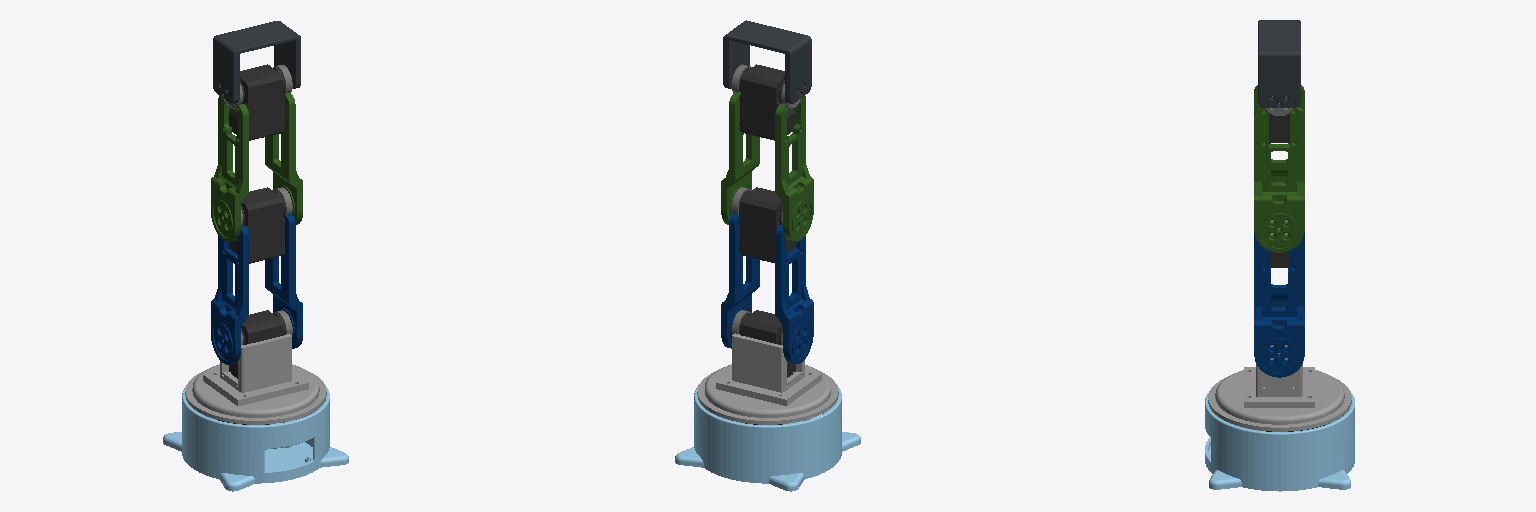
robot.urdf — onshape_export:
<?xml version="1.0" ?>
<!-- Generated using onshape-to-robot -->
<!-- Onshape https://cad.onshape.com/documents/b026964aa62daf9c1ecc4815/w/b181745cba52742b3ffb21e6/e/5ac1da73cba8f2619ef0b056 -->
<robot name="onshape_export">
  <!-- Link base_of_shoulder -->
  <link name="base_of_shoulder">
    <inertial>
      <origin xyz="0 0 0" rpy="0 0 0"/>
      <mass value="0"/>
      <inertia ixx="0" ixy="0" ixz="0" iyy="0" iyz="0" izz="0"/>
    </inertial>
    <!-- Part j2_servo -->
    <visual>
      <origin xyz="-0.0127266 0.021403 0.0237284" rpy="-0 -0 -0"/>
      <geometry>
        <mesh filename="package://assets/j2_servo.stl"/>
      </geometry>
      <material name="j2_servo_material">
        <color rgba="0.247059 0.247059 0.247059 1"/>
      </material>
    </visual>
    <collision>
      <origin xyz="-0.0127266 0.021403 0.0237284" rpy="-0 -0 -0"/>
      <geometry>
        <mesh filename="package://assets/j2_servo.stl"/>
      </geometry>
    </collision>
    <!-- Part base_of_shoulder -->
    <visual>
      <origin xyz="-0.0133535 0.025576 0.00282843" rpy="0 -0 -1.5708"/>
      <geometry>
        <mesh filename="package://assets/base_of_shoulder.stl"/>
      </geometry>
      <material name="base_of_shoulder_material">
        <color rgba="0.647059 0.647059 0.647059 1"/>
      </material>
    </visual>
    <collision>
      <origin xyz="-0.0133535 0.025576 0.00282843" rpy="0 -0 -1.5708"/>
      <geometry>
        <mesh filename="package://assets/base_of_shoulder.stl"/>
      </geometry>
    </collision>
    <!-- Part socker_j1 -->
    <visual>
      <origin xyz="-0.0175265 0.021403 0.00282843" rpy="-0 -0 -0"/>
      <geometry>
        <mesh filename="package://assets/socker_j1.stl"/>
      </geometry>
      <material name="socker_j1_material">
        <color rgba="0.647059 0.647059 0.647059 1"/>
      </material>
    </visual>
    <collision>
      <origin xyz="-0.0175265 0.021403 0.00282843" rpy="-0 -0 -0"/>
      <geometry>
        <mesh filename="package://assets/socker_j1.stl"/>
      </geometry>
    </collision>
  </link>
  <!-- Link base_servo_board -->
  <link name="base_servo_board">
    <inertial>
      <origin xyz="0 0 0" rpy="0 0 0"/>
      <mass value="0"/>
      <inertia ixx="0" ixy="0" ixz="0" iyy="0" iyz="0" izz="0"/>
    </inertial>
    <!-- Part base_servo_board -->
    <visual>
      <origin xyz="-0.0038 -0 -0.0398" rpy="0 0 -0"/>
      <geometry>
        <mesh filename="package://assets/base_servo_board.stl"/>
      </geometry>
      <material name="base_servo_board_material">
        <color rgba="0.615686 0.811765 0.929412 1"/>
      </material>
    </visual>
    <collision>
      <origin xyz="-0.0038 -0 -0.0398" rpy="0 0 -0"/>
      <geometry>
        <mesh filename="package://assets/base_servo_board.stl"/>
      </geometry>
    </collision>
    <!-- Part servo_motor_sts3215_v10 -->
    <visual>
      <origin xyz="-0.0038 0 -0.0398" rpy="-0 0 -0"/>
      <geometry>
        <mesh filename="package://assets/servo_motor_sts3215_v10.stl"/>
      </geometry>
      <material name="servo_motor_sts3215_v10_material">
        <color rgba="0.247059 0.247059 0.247059 1"/>
      </material>
    </visual>
    <collision>
      <origin xyz="-0.0038 0 -0.0398" rpy="-0 0 -0"/>
      <geometry>
        <mesh filename="package://assets/servo_motor_sts3215_v10.stl"/>
      </geometry>
    </collision>
  </link>
  <!-- Joint from base_of_shoulder to base_servo_board -->
  <joint name="Servor_1_to_waist" type="revolute">
    <origin xyz="-0.0133535 0.021776 0.0426284" rpy="0 -0 -1.5708"/>
    <parent link="base_of_shoulder"/>
    <child link="base_servo_board"/>
    <axis xyz="0 0 1"/>
    <limit effort="10" velocity="10" lower="-6.28319" upper="6.28319"/>
  </joint>
  <!-- Link shoulder_left -->
  <link name="shoulder_left">
    <inertial>
      <origin xyz="0 0 0" rpy="0 0 0"/>
      <mass value="0"/>
      <inertia ixx="0" ixy="0" ixz="0" iyy="0" iyz="0" izz="0"/>
    </inertial>
    <!-- Part shoulder_left -->
    <visual>
      <origin xyz="-0 -0.0679 0.0176" rpy="-1.5708 -1.5708 0"/>
      <geometry>
        <mesh filename="package://assets/shoulder_left.stl"/>
      </geometry>
      <material name="shoulder_left_material">
        <color rgba="0.0627451 0.266667 0.490196 1"/>
      </material>
    </visual>
    <collision>
      <origin xyz="-0 -0.0679 0.0176" rpy="-1.5708 -1.5708 0"/>
      <geometry>
        <mesh filename="package://assets/shoulder_left.stl"/>
      </geometry>
    </collision>
    <!-- Part left_cover -->
    <visual>
      <origin xyz="-0 -0.0679 0.0176" rpy="-1.5708 -1.5708 0"/>
      <geometry>
        <mesh filename="package://assets/left_cover.stl"/>
      </geometry>
      <material name="left_cover_material">
        <color rgba="0.498039 0.498039 0.498039 1"/>
      </material>
    </visual>
    <collision>
      <origin xyz="-0 -0.0679 0.0176" rpy="-1.5708 -1.5708 0"/>
      <geometry>
        <mesh filename="package://assets/left_cover.stl"/>
      </geometry>
    </collision>
    <!-- Part j3_servo -->
    <visual>
      <origin xyz="0 -0.0679 0.0175809" rpy="-1.5708 -1.5708 0"/>
      <geometry>
        <mesh filename="package://assets/j3_servo.stl"/>
      </geometry>
      <material name="j3_servo_material">
        <color rgba="0.247059 0.247059 0.247059 1"/>
      </material>
    </visual>
    <collision>
      <origin xyz="0 -0.0679 0.0175809" rpy="-1.5708 -1.5708 0"/>
      <geometry>
        <mesh filename="package://assets/j3_servo.stl"/>
      </geometry>
    </collision>
    <!-- Part right_cover -->
    <visual>
      <origin xyz="0 -0.0679 0.0175617" rpy="-1.5708 -1.5708 0"/>
      <geometry>
        <mesh filename="package://assets/right_cover.stl"/>
      </geometry>
      <material name="right_cover_material">
        <color rgba="0.498039 0.498039 0.498039 1"/>
      </material>
    </visual>
    <collision>
      <origin xyz="0 -0.0679 0.0175617" rpy="-1.5708 -1.5708 0"/>
      <geometry>
        <mesh filename="package://assets/right_cover.stl"/>
      </geometry>
    </collision>
    <!-- Part shoulder_right -->
    <visual>
      <origin xyz="0 -0.0679 0.0175617" rpy="-1.5708 -1.5708 0"/>
      <geometry>
        <mesh filename="package://assets/shoulder_right.stl"/>
      </geometry>
      <material name="shoulder_right_material">
        <color rgba="0.0627451 0.266667 0.490196 1"/>
      </material>
    </visual>
    <collision>
      <origin xyz="0 -0.0679 0.0175617" rpy="-1.5708 -1.5708 0"/>
      <geometry>
        <mesh filename="package://assets/shoulder_right.stl"/>
      </geometry>
    </collision>
  </link>
  <!-- Link left_cover -->
  <link name="left_cover">
    <inertial>
      <origin xyz="0 0 0" rpy="0 0 0"/>
      <mass value="0"/>
      <inertia ixx="0" ixy="0" ixz="0" iyy="0" iyz="0" izz="0"/>
    </inertial>
    <!-- Part right_cover_2 -->
    <visual>
      <origin xyz="-0 -0.0679 0.0175617" rpy="-1.5708 -1.5708 0"/>
      <geometry>
        <mesh filename="package://assets/right_cover.stl"/>
      </geometry>
      <material name="right_cover_2_material">
        <color rgba="0.498039 0.498039 0.498039 1"/>
      </material>
    </visual>
    <collision>
      <origin xyz="-0 -0.0679 0.0175617" rpy="-1.5708 -1.5708 0"/>
      <geometry>
        <mesh filename="package://assets/right_cover.stl"/>
      </geometry>
    </collision>
    <!-- Part elbow_left -->
    <visual>
      <origin xyz="0 -0.0539 0.0176" rpy="-1.5708 -1.5708 0"/>
      <geometry>
        <mesh filename="package://assets/elbow_left.stl"/>
      </geometry>
      <material name="elbow_left_material">
        <color rgba="0.25098 0.419608 0.172549 1"/>
      </material>
    </visual>
    <collision>
      <origin xyz="0 -0.0539 0.0176" rpy="-1.5708 -1.5708 0"/>
      <geometry>
        <mesh filename="package://assets/elbow_left.stl"/>
      </geometry>
    </collision>
    <!-- Part elbow_right -->
    <visual>
      <origin xyz="-0 -0.0539 0.0175617" rpy="-1.5708 -1.5708 0"/>
      <geometry>
        <mesh filename="package://assets/elbow_right.stl"/>
      </geometry>
      <material name="elbow_right_material">
        <color rgba="0.25098 0.419608 0.172549 1"/>
      </material>
    </visual>
    <collision>
      <origin xyz="-0 -0.0539 0.0175617" rpy="-1.5708 -1.5708 0"/>
      <geometry>
        <mesh filename="package://assets/elbow_right.stl"/>
      </geometry>
    </collision>
    <!-- Part left_cover_2 -->
    <visual>
      <origin xyz="-0 -0.0679 0.0176" rpy="-1.5708 -1.5708 0"/>
      <geometry>
        <mesh filename="package://assets/left_cover.stl"/>
      </geometry>
      <material name="left_cover_2_material">
        <color rgba="0.498039 0.498039 0.498039 1"/>
      </material>
    </visual>
    <collision>
      <origin xyz="-0 -0.0679 0.0176" rpy="-1.5708 -1.5708 0"/>
      <geometry>
        <mesh filename="package://assets/left_cover.stl"/>
      </geometry>
    </collision>
    <!-- Part j3_servo_2 -->
    <visual>
      <origin xyz="-0 -0.0539 0.0175809" rpy="-1.5708 -1.5708 0"/>
      <geometry>
        <mesh filename="package://assets/j3_servo__2.stl"/>
      </geometry>
      <material name="j3_servo_2_material">
        <color rgba="0.247059 0.247059 0.247059 1"/>
      </material>
    </visual>
    <collision>
      <origin xyz="-0 -0.0539 0.0175809" rpy="-1.5708 -1.5708 0"/>
      <geometry>
        <mesh filename="package://assets/j3_servo__2.stl"/>
      </geometry>
    </collision>
  </link>
  <!-- Link left_cover_2 -->
  <link name="left_cover_2">
    <inertial>
      <origin xyz="0 0 0" rpy="0 0 0"/>
      <mass value="0"/>
      <inertia ixx="0" ixy="0" ixz="0" iyy="0" iyz="0" izz="0"/>
    </inertial>
    <!-- Part left_cover_3 -->
    <visual>
      <origin xyz="-0 -0.1499 0.0581" rpy="-1.5708 -1.5708 0"/>
      <geometry>
        <mesh filename="package://assets/left_cover__2.stl"/>
      </geometry>
      <material name="left_cover_3_material">
        <color rgba="0.498039 0.498039 0.498039 1"/>
      </material>
    </visual>
    <collision>
      <origin xyz="-0 -0.1499 0.0581" rpy="-1.5708 -1.5708 0"/>
      <geometry>
        <mesh filename="package://assets/left_cover__2.stl"/>
      </geometry>
    </collision>
    <!-- Part left_cover_4 -->
    <visual>
      <origin xyz="-0 -0.0539 0.0176" rpy="-1.5708 -1.5708 0"/>
      <geometry>
        <mesh filename="package://assets/left_cover__3.stl"/>
      </geometry>
      <material name="left_cover_4_material">
        <color rgba="0.498039 0.498039 0.498039 1"/>
      </material>
    </visual>
    <collision>
      <origin xyz="-0 -0.0539 0.0176" rpy="-1.5708 -1.5708 0"/>
      <geometry>
        <mesh filename="package://assets/left_cover__3.stl"/>
      </geometry>
    </collision>
    <!-- Part part_11 -->
    <visual>
      <origin xyz="-0 -0.1499 0.0176" rpy="-1.5708 -1.5708 0"/>
      <geometry>
        <mesh filename="package://assets/part_11.stl"/>
      </geometry>
      <material name="part_11_material">
        <color rgba="0.262745 0.282353 0.301961 1"/>
      </material>
    </visual>
    <collision>
      <origin xyz="-0 -0.1499 0.0176" rpy="-1.5708 -1.5708 0"/>
      <geometry>
        <mesh filename="package://assets/part_11.stl"/>
      </geometry>
    </collision>
  </link>
  <!-- Joint from left_cover to left_cover_2 -->
  <joint name="left_3_arm" type="revolute">
    <origin xyz="0 0.096 -1.91259e-05" rpy="0 0 0"/>
    <parent link="left_cover"/>
    <child link="left_cover_2"/>
    <axis xyz="0 0 1"/>
    <limit effort="10" velocity="10" lower="-2.0944" upper="2.0944"/>
  </joint>
  <!-- Joint from shoulder_left to left_cover -->
  <joint name="left_2_arm" type="revolute">
    <origin xyz="0 0.096 -1.91259e-05" rpy="0 -0 0"/>
    <parent link="shoulder_left"/>
    <child link="left_cover"/>
    <axis xyz="0 0 1"/>
    <limit effort="10" velocity="10" lower="-2.0944" upper="2.0944"/>
  </joint>
  <!-- Joint from base_of_shoulder to shoulder_left -->
  <joint name="left_1_arm" type="revolute">
    <origin xyz="0.000373062 -0.0169731 0.049" rpy="1.5708 -0 -3.14159"/>
    <parent link="base_servo_board"/>
    <child link="shoulder_left"/>
    <axis xyz="0 0 1"/>
    <limit effort="10" velocity="10" lower="-1.5708" upper="1.5708"/>
  </joint>
</robot>

--- Render facts (derived) ---
The picture shows the robot from 3 angles, left to right: view 1: azimuth 30°, elevation 25°; view 2: azimuth 150°, elevation 25°; view 3: azimuth 270°, elevation 25°; orthographic projection.
Robot: onshape_export — 5 links, 4 joints (4 revolute); root link base_of_shoulder; default pose: every joint at zero.
Links seen in each view (by area): view 1: base_servo_board, left_cover, base_of_shoulder, shoulder_left, left_cover_2; view 2: base_servo_board, base_of_shoulder, left_cover, shoulder_left, left_cover_2; view 3: base_servo_board, base_of_shoulder, left_cover, shoulder_left, left_cover_2.
Link boxes in pixels (x1=…): base_servo_board: x1=163, y1=385, x2=348, y2=491; left_cover: x1=211, y1=64, x2=302, y2=241; base_of_shoulder: x1=185, y1=310, x2=326, y2=424; shoulder_left: x1=211, y1=187, x2=302, y2=364; left_cover_2: x1=213, y1=21, x2=300, y2=108; base_servo_board: x1=675, y1=385, x2=860, y2=491; base_of_shoulder: x1=697, y1=310, x2=838, y2=424; left_cover: x1=721, y1=64, x2=813, y2=241; shoulder_left: x1=721, y1=187, x2=813, y2=363; left_cover_2: x1=723, y1=20, x2=811, y2=107; base_servo_board: x1=1205, y1=391, x2=1354, y2=491; base_of_shoulder: x1=1208, y1=364, x2=1351, y2=431; left_cover: x1=1254, y1=85, x2=1304, y2=252; shoulder_left: x1=1254, y1=232, x2=1304, y2=377; left_cover_2: x1=1258, y1=20, x2=1300, y2=115.
Size in the robot's own frame: 0.105 by 0.105 by 0.3258 metres.
18 mesh visuals loaded from 16 distinct referenced files (16 binary STL).
